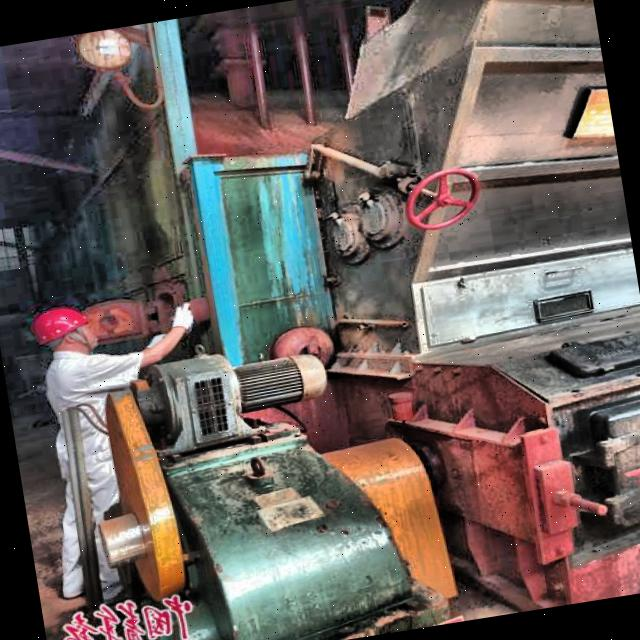helmet: (26, 300, 106, 362)
